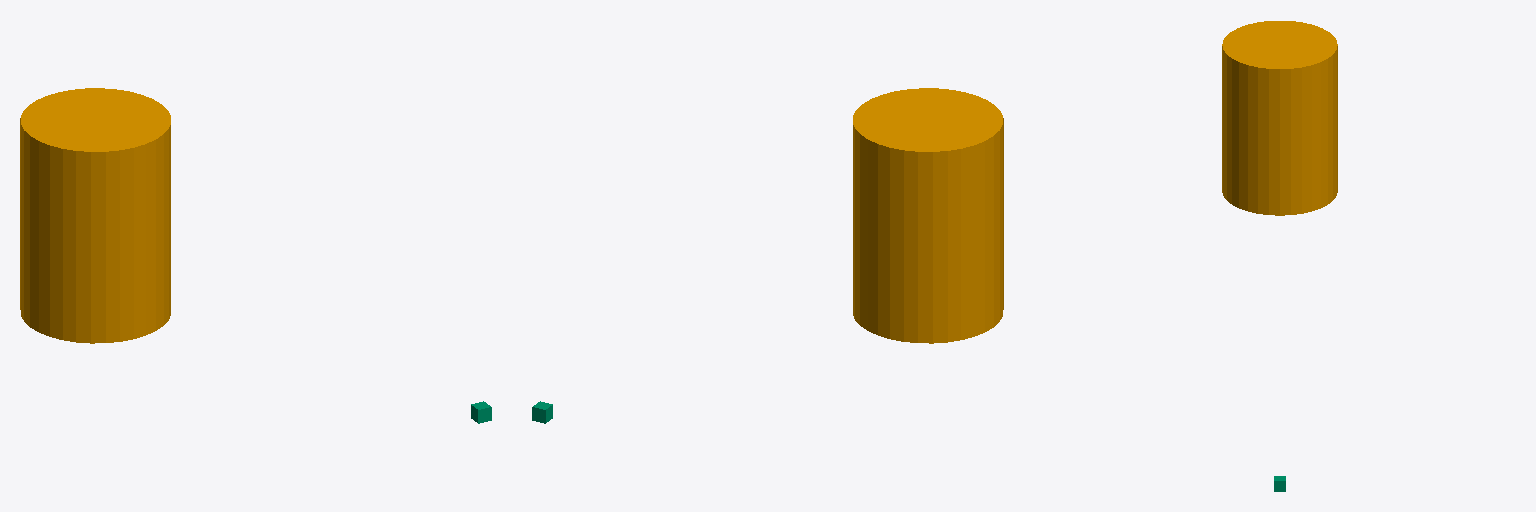
The robot description file, URDF, robot "open_manipulator_pro":
<?xml version="1.0" ?>
<!-- =================================================================================== -->
<!-- |    This document was autogenerated by xacro from open_manipulator.urdf.xacro    | -->
<!-- |    EDITING THIS FILE BY HAND IS NOT RECOMMENDED                                 | -->
<!-- =================================================================================== -->
<!-- Revolute-Revolute Manipulator -->
<robot name="open_manipulator_pro" xmlns:xacro="http://www.ros.org/wiki/xacro">
  <!-- Import all Gazebo-customization elements, including Gazebo colors -->
  <!--   <xacro:include filename="$(find manipulator_h_description)/urdf/open_manipulator_pro_with_gripper.gazebo" /> -->
  <!-- Import Rviz colors -->
  <!-- <xacro:include filename="$(find manipulator_h_description)/urdf/materials.xacro" /> -->
  <!-- World -->
  <!--   <link name="world">
  </link> -->
  <!-- World fixed joint-->
  <!--   <joint name="world_fixed" type="fixed">
    <origin xyz="0 0 0" rpy="1.570 0 0"/>
    <parent link="world"/>
    <child link="torso_waist"/>
  </joint> -->
  <link name="torso_waist">
    <visual>
      <origin rpy="0 0 0" xyz="0 0 0"/>
      <geometry>
        <cylinder length="0.1397" radius="0.05"/>
      </geometry>
    </visual>
    <collision>
      <origin rpy="0 0 0" xyz="0 0 0"/>
      <geometry>
        <cylinder length="0.1397" radius="0.05"/>
      </geometry>
    </collision>
    <inertial>
      <mass value="5"/>
      <inertia ixx="0.4" ixy="0.0" ixz="0.0" iyy="0.4" iyz="0.0" izz="0.2"/>
    </inertial>
  </link>
  <joint name="link1_to_torso_waist" type="fixed">
    <!--     <axis xyz="0 0 1"/> -->
    <origin rpy="0 0 0" xyz="0 0 0.16"/>
    <!--     <limit effort="1000.0" lower="-0.5" upper="0.5" velocity="0.5"/>
 -->
    <!-- <limit effort="100" velocity="100" /> -->
    <parent link="torso_waist"/>
    <child link="link1"/>
  </joint>
  <!-- link 1 -->
  <link name="link1">
    <collision>
      <origin rpy="0 0 0" xyz="0 0 0"/>
      <geometry>
        <mesh filename="package://open_manipulator_pro_description/meshes/link_1.stl" scale="0.001 0.001 0.001"/>
      </geometry>
    </collision>
    <visual>
      <origin rpy="0 0 0" xyz="0 0 0"/>
      <geometry>
        <mesh filename="package://open_manipulator_pro_description/meshes/link_1.stl" scale="0.001 0.001 0.001"/>
      </geometry>
      <material name="grey"/>
    </visual>
    <inertial>
      <origin rpy="0 0 0" xyz="0.00023 0.00000 0.06223"/>
      <!--<origin xyz="0.00023 0.00000 -0.06377" rpy="0 0 0"/>-->
      <mass value="0.85644"/>
      <inertia ixx="1.0" ixy="0.0" ixz="0.0" iyy="1.0" iyz="0.0" izz="1.0"/>
      <!--<inertia ixx="0.00121064" ixy="0.0" ixz="0.00001100" iyy="0.00120886" iyz="0.0" izz="0.00038103" />-->
    </inertial>
  </link>
  <!-- Joint 1 -->
  <joint name="joint1" type="revolute">
    <parent link="link1"/>
    <child link="link2"/>
    <origin rpy="0 0 0" xyz="0.0 0.0 0.126"/>
    <axis xyz="0 0 1"/>
    <limit effort="1000" lower="-1.570796327" upper="1.570796327" velocity="6.5"/>
    <dynamics damping="0.7"/>
  </joint>
  <transmission name="tran1">
    <type>transmission_interface/SimpleTransmission</type>
    <joint name="joint1">
      <hardwareInterface>hardware_interface/PositionJointInterface</hardwareInterface>
    </joint>
    <actuator name="motor1">
      <hardwareInterface>hardware_interface/PositionJointInterface</hardwareInterface>
      <mechanicalReduction>1</mechanicalReduction>
    </actuator>
  </transmission>
  <!-- link 2 -->
  <link name="link2">
    <collision>
      <origin rpy="0 0 0" xyz="0 0 0"/>
      <geometry>
        <mesh filename="package://open_manipulator_pro_description/meshes/link_2.stl" scale="0.001 0.001 0.001"/>
      </geometry>
    </collision>
    <visual>
      <origin rpy="0 0 0" xyz="0 0 0"/>
      <geometry>
        <mesh filename="package://open_manipulator_pro_description/meshes/link_2.stl" scale="0.001 0.001 0.001"/>
      </geometry>
      <material name="grey"/>
    </visual>
    <inertial>
      <origin rpy="0 0 0" xyz="0.00000 0.00080 0.03183"/>
      <!--<origin xyz="0.00000 -0.06820 -0.00117" rpy="0 0 0"/>-->
      <mass value="0.94658"/>
      <inertia ixx="1.0" ixy="0.0" ixz="0.0" iyy="1.0" iyz="0.0" izz="1.0"/>
      <!--<inertia ixx="0.00152547" ixy="0.0" ixz="0.0" iyy="0.00045954" iyz="-0.00001086" izz="0.00151740" />-->
    </inertial>
  </link>
  <!-- Joint 2 -->
  <joint name="joint2" type="revolute">
    <parent link="link2"/>
    <child link="link3"/>
    <origin rpy="0 1.570796327 0" xyz="0.0 0.069 0.033"/>
    <axis xyz="0 1 0"/>
    <limit effort="1000" lower="-1.570796327" upper="1.570796327" velocity="6.5"/>
    <dynamics damping="0.7"/>
  </joint>
  <transmission name="tran2">
    <type>transmission_interface/SimpleTransmission</type>
    <joint name="joint2">
      <hardwareInterface>hardware_interface/PositionJointInterface</hardwareInterface>
    </joint>
    <actuator name="motor2">
      <hardwareInterface>hardware_interface/PositionJointInterface</hardwareInterface>
      <mechanicalReduction>1</mechanicalReduction>
    </actuator>
  </transmission>
  <!-- link 3 -->
  <link name="link3">
    <collision>
      <origin rpy="0 0 0" xyz="0 0 0"/>
      <geometry>
        <mesh filename="package://open_manipulator_pro_description/meshes/link_3.stl" scale="0.001 0.001 0.001"/>
      </geometry>
    </collision>
    <visual>
      <origin rpy="0 0 0" xyz="0 0 0"/>
      <geometry>
        <mesh filename="package://open_manipulator_pro_description/meshes/link_3.stl" scale="0.001 0.001 0.001"/>
      </geometry>
      <material name="grey"/>
    </visual>
    <inertial>
      <origin rpy="0 0 0" xyz="0.01768 -0.06881 0.20524"/>
      <!--<origin xyz="-0.01232 -0.05731 -0.05876" rpy="0 0 0"/>-->
      <mass value="1.30260"/>
      <inertia ixx="1.0" ixy="0.0" ixz="0.0" iyy="1.0" iyz="0.0" izz="1.0"/>
      <!--<inertia ixx="0.01111021" ixy="0.00001331" ixz="-0.00134208" iyy="0.01046642" iyz="0.00016235" izz="0.00202081" />-->
    </inertial>
  </link>
  <!-- Joint 3 -->
  <joint name="joint3" type="revolute">
    <parent link="link3"/>
    <child link="link4"/>
    <origin rpy="0 0 0" xyz="0.03000 -0.01150 0.26400"/>
    <axis xyz="0 1 0"/>
    <limit effort="1000" lower="-1.570796327" upper="1.570796327" velocity="6.5"/>
    <dynamics damping="0.7"/>
  </joint>
  <transmission name="tran3">
    <type>transmission_interface/SimpleTransmission</type>
    <joint name="joint3">
      <hardwareInterface>hardware_interface/PositionJointInterface</hardwareInterface>
    </joint>
    <actuator name="motor3">
      <hardwareInterface>hardware_interface/PositionJointInterface</hardwareInterface>
      <mechanicalReduction>1</mechanicalReduction>
    </actuator>
  </transmission>
  <!-- link 4 -->
  <link name="link4">
    <collision>
      <origin rpy="0 0 0" xyz="0 0 0"/>
      <geometry>
        <mesh filename="package://open_manipulator_pro_description/meshes/link_4.stl" scale="0.001 0.001 0.001"/>
      </geometry>
    </collision>
    <visual>
      <origin rpy="0 0 0" xyz="0 0 0"/>
      <geometry>
        <mesh filename="package://open_manipulator_pro_description/meshes/link_4.stl" scale="0.001 0.001 0.001"/>
      </geometry>
      <material name="grey"/>
    </visual>
    <inertial>
      <origin rpy="0 0 0" xyz="0.12475 -0.05716 0.02979"/>
      <!--<origin xyz="-0.07025 0.00034 -0.00021" rpy="0 0 0"/>-->
      <mass value="1.15977"/>
      <inertia ixx="1.0" ixy="0.0" ixz="0.0" iyy="1.0" iyz="0.0" izz="1.0"/>
      <!--<inertia ixx="0.00096726" ixy="0.00004383" ixz="-0.00002771" iyy="0.00318801" iyz="0.00000627" izz="0.00341484" />-->
    </inertial>
  </link>
  <!-- Joint 4 -->
  <joint name="joint4" type="revolute">
    <parent link="link4"/>
    <child link="link5"/>
    <origin rpy="0 0 0" xyz="0.19500 -0.05750 0.03000"/>
    <axis xyz="1 0 0"/>
    <limit effort="1000" lower="-1.570796327" upper="1.570796327" velocity="6.5"/>
    <dynamics damping="0.7"/>
  </joint>
  <transmission name="tran4">
    <type>transmission_interface/SimpleTransmission</type>
    <joint name="joint4">
      <hardwareInterface>hardware_interface/PositionJointInterface</hardwareInterface>
    </joint>
    <actuator name="motor4">
      <hardwareInterface>hardware_interface/PositionJointInterface</hardwareInterface>
      <mechanicalReduction>1</mechanicalReduction>
    </actuator>
  </transmission>
  <!-- link 5 -->
  <link name="link5">
    <collision>
      <origin rpy="0 0 0" xyz="0 0 0"/>
      <geometry>
        <mesh filename="package://open_manipulator_pro_description/meshes/link_5.stl" scale="0.001 0.001 0.001"/>
      </geometry>
    </collision>
    <visual>
      <origin rpy="0 0 0" xyz="0 0 0"/>
      <geometry>
        <mesh filename="package://open_manipulator_pro_description/meshes/link_5.stl" scale="0.001 0.001 0.001"/>
      </geometry>
      <material name="grey"/>
    </visual>
    <inertial>
      <origin rpy="0 0 0" xyz="0.05642 -0.00217 0.00002"/>
      <!--<origin xyz="-0.00658 -0.04717 0.00002" rpy="0 0 0"/>-->
      <mass value="0.44688"/>
      <inertia ixx="1.0" ixy="0.0" ixz="0.0" iyy="1.0" iyz="0.0" izz="1.0"/>
      <!--<inertia ixx="0.00030285" ixy="0.00000761" ixz="0.00000031" iyy="0.00022339" iyz="-0.00000001" izz="0.00039766" />-->
    </inertial>
  </link>
  <!-- Joint 5 -->
  <joint name="joint5" type="revolute">
    <parent link="link5"/>
    <child link="link6"/>
    <origin rpy="0 0 0" xyz="0.06300 0.04500 0.00000"/>
    <axis xyz="0 1 0"/>
    <limit effort="1000" lower="-1.570796327" upper="1.570796327" velocity="6.5"/>
    <dynamics damping="0.7"/>
  </joint>
  <transmission name="tran5">
    <type>transmission_interface/SimpleTransmission</type>
    <joint name="joint5">
      <hardwareInterface>hardware_interface/PositionJointInterface</hardwareInterface>
    </joint>
    <actuator name="motor5">
      <hardwareInterface>hardware_interface/PositionJointInterface</hardwareInterface>
      <mechanicalReduction>1</mechanicalReduction>
    </actuator>
  </transmission>
  <!-- link 6 -->
  <link name="link6">
    <collision>
      <origin rpy="0 0 0" xyz="0 0 0"/>
      <geometry>
        <mesh filename="package://open_manipulator_pro_description/meshes/link_6.stl" scale="0.001 0.001 0.001"/>
      </geometry>
    </collision>
    <visual>
      <origin rpy="0 0 0" xyz="0 0 0"/>
      <geometry>
        <mesh filename="package://open_manipulator_pro_description/meshes/link_6.stl" scale="0.001 0.001 0.001"/>
      </geometry>
      <material name="grey"/>
    </visual>
    <inertial>
      <origin rpy="0 0 0" xyz="0.06831 -0.04457 0.00000"/>
      <!--<origin xyz="-0.05469 0.00043 0.00000" rpy="0 0 0"/>-->
      <mass value="0.43273"/>
      <inertia ixx="1.0" ixy="0.0" ixz="0.0" iyy="1.0" iyz="0.0" izz="1.0"/>
      <!--<inertia ixx="0.00021512" ixy="0.00001009" ixz="0.00000000" iyy="0.00042827" iyz="0.00000000" izz="0.00051436" />-->
    </inertial>
  </link>
  <!-- Joint 6 -->
  <joint name="joint6" type="revolute">
    <parent link="link6"/>
    <child link="grip_main_link"/>
    <origin rpy="0 0 0" xyz="0.12300 -0.04500 0.00000"/>
    <axis xyz="1 0 0"/>
    <limit effort="1000" lower="-1.570796327" upper="1.570796327" velocity="6.5"/>
    <dynamics damping="0.7"/>
  </joint>
  <transmission name="tran6">
    <type>transmission_interface/SimpleTransmission</type>
    <joint name="joint6">
      <hardwareInterface>hardware_interface/PositionJointInterface</hardwareInterface>
    </joint>
    <actuator name="motor6">
      <hardwareInterface>hardware_interface/PositionJointInterface</hardwareInterface>
      <mechanicalReduction>1</mechanicalReduction>
    </actuator>
  </transmission>
  <!-- gripper main link -->
  <link name="grip_main_link">
    <collision>
      <origin rpy="0 0 0" xyz="0 0 0"/>
      <geometry>
        <mesh filename="package://open_manipulator_pro_description/meshes/grip_main_link.stl" scale="0.001 0.001 0.001"/>
      </geometry>
    </collision>
    <visual>
      <origin rpy="0 0 0" xyz="0 0 0"/>
      <geometry>
        <mesh filename="package://open_manipulator_pro_description/meshes/grip_main_link.stl" scale="0.001 0.001 0.001"/>
      </geometry>
      <material name="grey"/>
    </visual>
    <inertial>
      <origin rpy="0 0 0" xyz="0.0 0.0 0.0"/>
      <mass value="0.509"/>
      <inertia ixx="1.0" ixy="0.0" ixz="0.0" iyy="1.0" iyz="0.0" izz="1.0"/>
    </inertial>
  </link>
  <!-- gripper joint -->
  <joint name="grip" type="revolute">
    <axis xyz="0 0 1"/>
    <origin rpy="0 0 -0.698131700889" xyz="0.0552 -0.0133 0"/>
    <parent link="grip_main_link"/>
    <child link="grip_link"/>
    <limit effort="1000" lower="0.0" upper="1.13446401394" velocity="6.5"/>
    <dynamics damping="0.1" friction="0.0"/>
  </joint>
  <transmission name="tran_grip">
    <type>transmission_interface/SimpleTransmission</type>
    <joint name="grip">
      <hardwareInterface>hardware_interface/PositionJointInterface</hardwareInterface>
    </joint>
    <actuator name="motor_grip">
      <hardwareInterface>hardware_interface/PositionJointInterface</hardwareInterface>
      <mechanicalReduction>1</mechanicalReduction>
    </actuator>
  </transmission>
  <!-- gripper link -->
  <link name="grip_link">
    <collision>
      <origin rpy="0 0 0" xyz="0 0 0"/>
      <geometry>
        <mesh filename="package://open_manipulator_pro_description/meshes/grip_link.stl" scale="0.001 0.001 0.001"/>
      </geometry>
      <material name="grey"/>
    </collision>
    <visual>
      <origin rpy="0 0 0" xyz="0 0 0"/>
      <geometry>
        <mesh filename="package://open_manipulator_pro_description/meshes/grip_link.stl" scale="0.001 0.001 0.001"/>
      </geometry>
      <material name="grey"/>
    </visual>
    <inertial>
      <origin rpy="0 0 0" xyz="0 0 0"/>
      <mass value="0.013"/>
      <inertia ixx="1.0" ixy="0.0" ixz="0.0" iyy="1.0" iyz="0.0" izz="1.0"/>
    </inertial>
  </link>
  <!-- gripper joint 1 -->
  <joint name="grip_1" type="revolute">
    <axis xyz="0 0 -1"/>
    <origin rpy="0 0 0.698131700889" xyz="0.0552 0.0133 0"/>
    <parent link="grip_main_link"/>
    <child link="grip_1_link"/>
    <limit effort="1000" lower="0.0" upper="1.13446401394" velocity="6.5"/>
    <dynamics damping="0.1" friction="0.0"/>
  </joint>
  <transmission name="tran_grip_1">
    <type>transmission_interface/SimpleTransmission</type>
    <joint name="grip_1">
      <hardwareInterface>hardware_interface/PositionJointInterface</hardwareInterface>
    </joint>
    <actuator name="motor_grip_1">
      <hardwareInterface>hardware_interface/PositionJointInterface</hardwareInterface>
      <mechanicalReduction>1</mechanicalReduction>
    </actuator>
  </transmission>
  <!-- gripper 1 link -->
  <link name="grip_1_link">
    <collision>
      <origin rpy="0 0 0" xyz="0 0 0"/>
      <geometry>
        <mesh filename="package://open_manipulator_pro_description/meshes/grip_1_link.stl" scale="0.001 0.001 0.001"/>
      </geometry>
      <material name="grey"/>
    </collision>
    <visual>
      <origin rpy="0 0 0" xyz="0 0 0"/>
      <geometry>
        <mesh filename="package://open_manipulator_pro_description/meshes/grip_1_link.stl" scale="0.001 0.001 0.001"/>
      </geometry>
      <material name="grey"/>
    </visual>
    <inertial>
      <origin rpy="0 0 0" xyz="0 0 0"/>
      <mass value="0.013"/>
      <inertia ixx="1.0" ixy="0.0" ixz="0.0" iyy="1.0" iyz="0.0" izz="1.0"/>
    </inertial>
  </link>
  <!-- gripper main fixed joint-->
  <joint name="grip_main_fixed" type="fixed">
    <parent link="grip_main_link"/>
    <child link="end_effector"/>
    <origin rpy="0 0 0" xyz="0.12 0.0 0.0"/>
  </joint>
  <!-- End Effector -->
  <link name="end_effector">
    <visual>
      <origin rpy="0 0 0" xyz="0.0 0.0 0.0"/>
      <geometry>
        <box size="0.01 0.01 0.01"/>
      </geometry>
      <material name="red"/>
    </visual>
    <inertial>
      <origin rpy="0 0 0" xyz="0.0 0.0 0.0"/>
      <mass value="0.001"/>
      <inertia ixx="1.0" ixy="0.0" ixz="0.0" iyy="1.0" iyz="0.0" izz="1.0"/>
    </inertial>
  </link>
</robot>

--- Facts derived from the render (not from the file) ---
The picture shows the robot from 3 angles, left to right: view 1: azimuth 30°, elevation 25°; view 2: azimuth 150°, elevation 25°; view 3: azimuth 270°, elevation 25°; orthographic projection.
Robot: open_manipulator_pro — 11 links, 10 joints (8 revolute, 2 fixed); root link torso_waist; default pose: all joints at 0.
Links seen in each view (by area): view 1: torso_waist; view 2: torso_waist; view 3: torso_waist.
Link boxes in pixels (x1=…): torso_waist: x1=20, y1=88, x2=170, y2=343; torso_waist: x1=853, y1=88, x2=1003, y2=343; torso_waist: x1=1222, y1=21, x2=1337, y2=215.
Bounding box of the posed robot: 0.349 × 0.1 × 0.2868 m (x, y, z).
Meshes: 9 distinct files referenced, 0 mesh visuals loaded (none loaded); not drawn: 9 (reference not matched to a file when rendering).